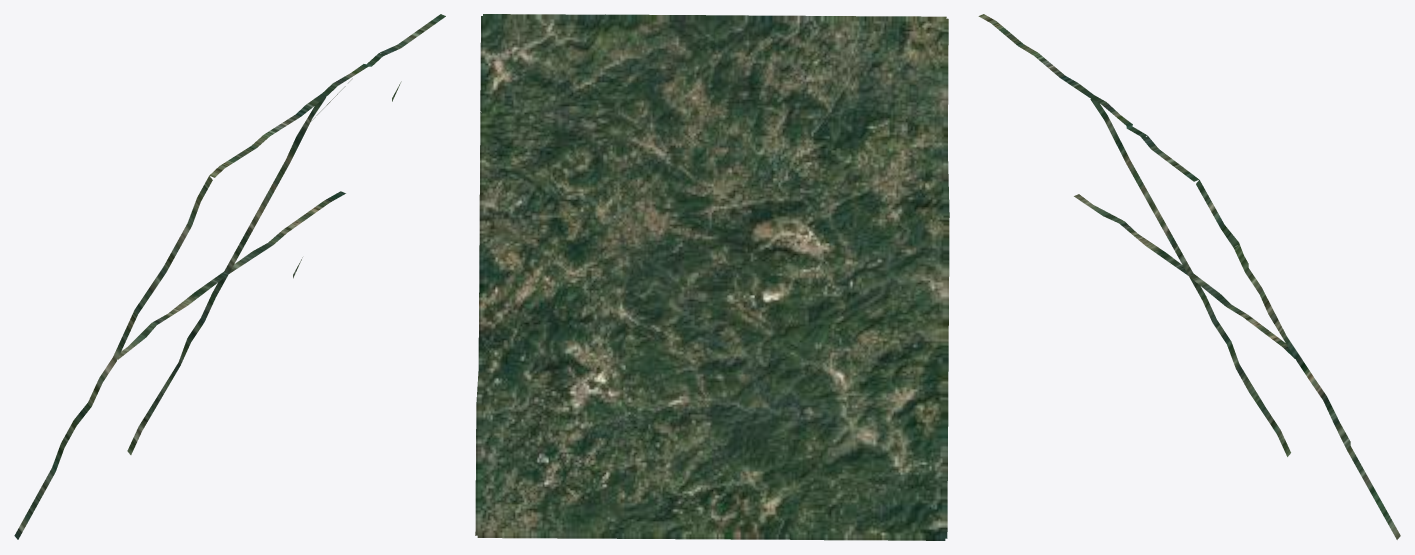
3 views of the same model, side by side, from view 1: azimuth 30°, elevation 25°; view 2: azimuth 150°, elevation 25°; view 3: azimuth 270°, elevation 25° (orthographic). The views are drawn at different scales.
Size of the model in its own units: 79063 by 70974 by 66132.
Materials: 1 (1 with a texture image).
